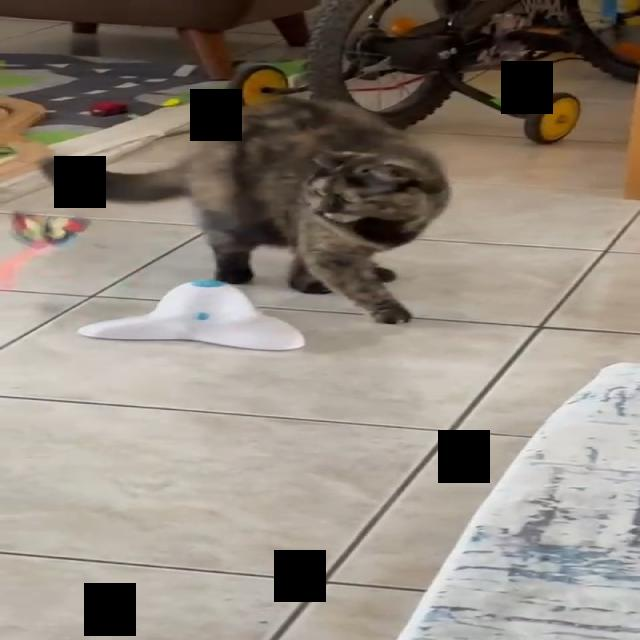authorized: (38, 95, 450, 325)
